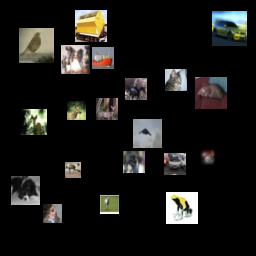airplane: (133, 119, 162, 148)
automobile: (212, 11, 247, 46)
bird: (19, 28, 54, 63), (123, 151, 145, 173)
cat: (195, 77, 227, 109), (165, 69, 187, 91), (200, 149, 216, 165)
deer: (21, 109, 47, 135), (96, 98, 118, 120), (67, 101, 86, 120), (65, 162, 81, 178)
dog: (11, 176, 40, 205), (61, 45, 90, 74), (43, 204, 62, 223)
frog: (166, 192, 198, 224)
ship: (92, 47, 114, 69)
